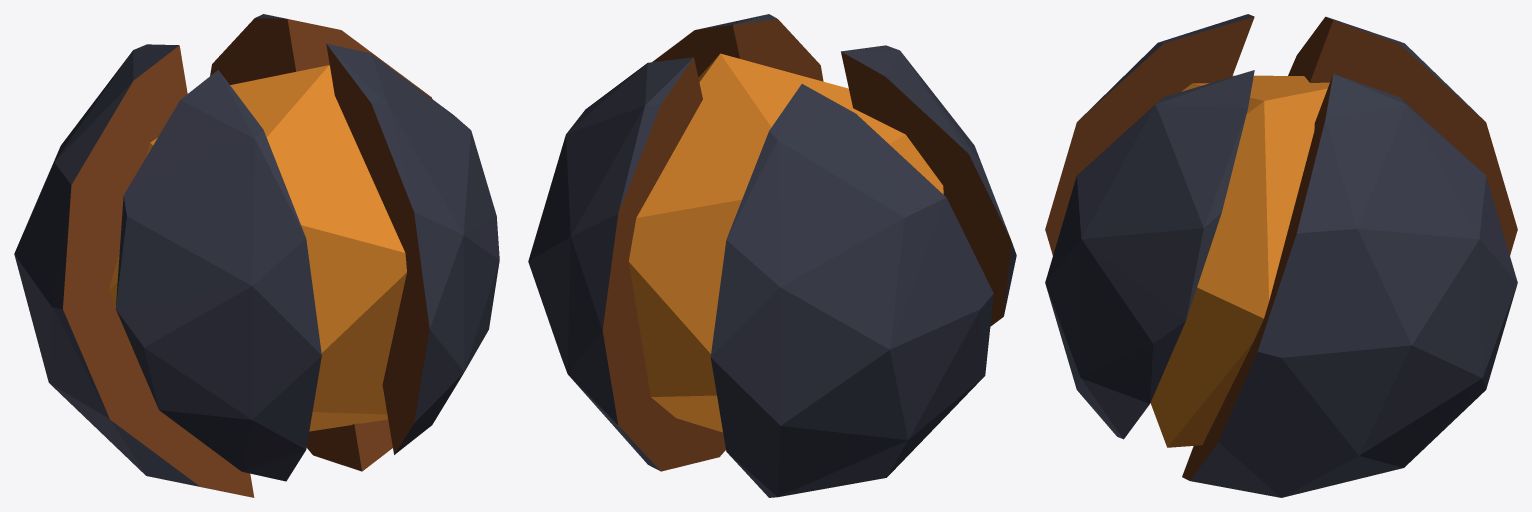
File: FX-PROJECTILE-Core.glb
3 renders of one model, left to right at view 1: azimuth 30°, elevation 25°; view 2: azimuth 150°, elevation 25°; view 3: azimuth 270°, elevation 25°, orthographic.
Visible parts, largest first — view 1: FX-PROJECTILE-Core; view 2: FX-PROJECTILE-Core; view 3: FX-PROJECTILE-Core.
Part boxes in pixels (bbox=[...]): FX-PROJECTILE-Core: bbox=[14, 14, 499, 497]; FX-PROJECTILE-Core: bbox=[528, 14, 1016, 497]; FX-PROJECTILE-Core: bbox=[1045, 14, 1517, 497].
Bounding box in the file's own units: 0.3859 × 0.3737 × 0.3749.
